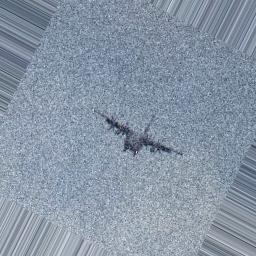Airplane: (95, 108, 184, 159)
